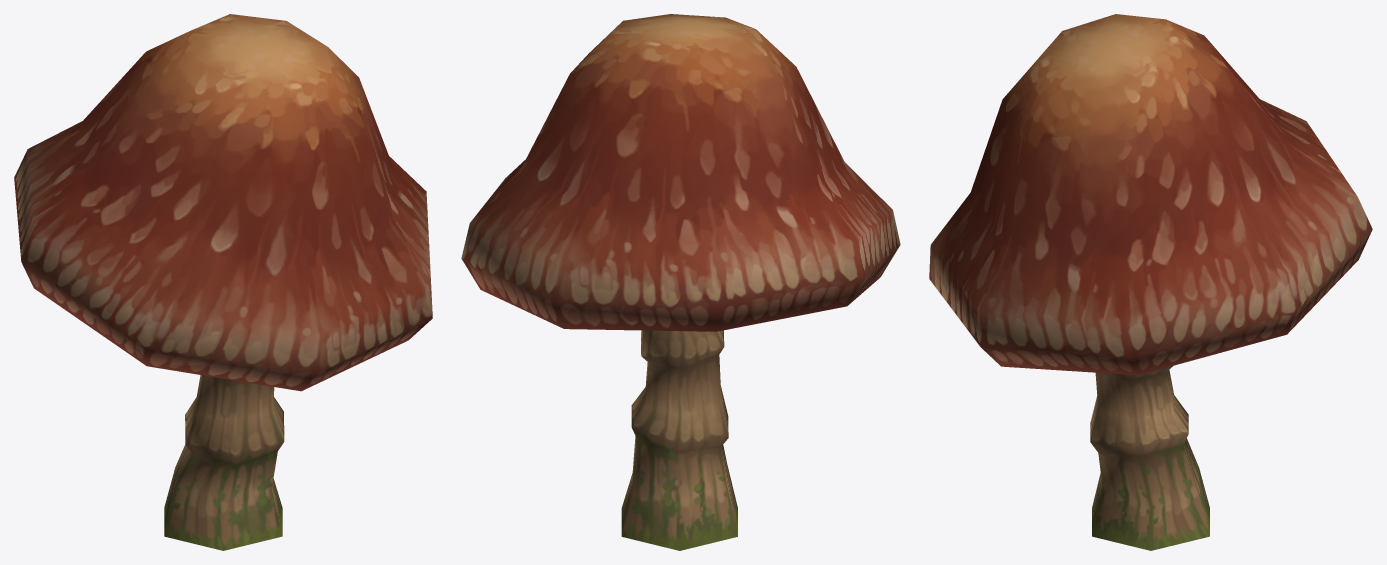
Rendered from Na_Mushroom_02.FBX.
3 views of the same model, side by side, from view 1: azimuth 30°, elevation 25°; view 2: azimuth 150°, elevation 25°; view 3: azimuth 270°, elevation 25° (orthographic).
Visible parts, largest first — view 1: Na_Mushroom_02; view 2: Na_Mushroom_02; view 3: Na_Mushroom_02.
Boxes of the visible parts, <box> form: Na_Mushroom_02: <box>14,14,432,550</box>; Na_Mushroom_02: <box>461,14,900,550</box>; Na_Mushroom_02: <box>929,14,1372,550</box>.
Size of the model in its own units: 2.53 by 3.05 by 2.5.
1 material, 1 textured.
